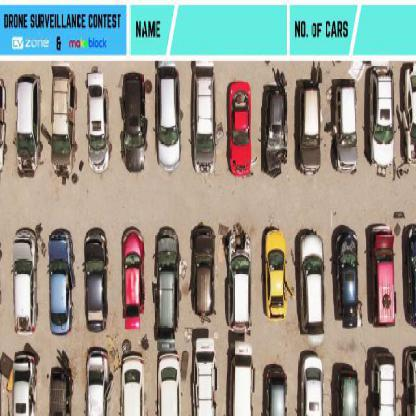car: (153, 225, 179, 347), (262, 68, 290, 179), (296, 229, 324, 339), (224, 228, 252, 335), (48, 229, 75, 336), (156, 64, 182, 173), (12, 227, 38, 336), (333, 229, 361, 330), (50, 66, 76, 173), (120, 73, 147, 176), (369, 228, 396, 330), (193, 64, 217, 177), (84, 230, 110, 334), (189, 222, 217, 317), (371, 65, 395, 172), (88, 69, 112, 174), (17, 74, 41, 178), (120, 227, 144, 329), (298, 81, 321, 176), (265, 229, 288, 323), (230, 78, 252, 176), (228, 341, 256, 415), (337, 82, 359, 173), (193, 338, 219, 415), (369, 350, 397, 415), (85, 346, 110, 415), (120, 353, 147, 415), (155, 353, 182, 415), (12, 354, 39, 415), (300, 352, 326, 415), (400, 64, 415, 169), (334, 363, 359, 415), (403, 222, 415, 329), (47, 368, 74, 415), (263, 368, 288, 415), (404, 347, 415, 415)
